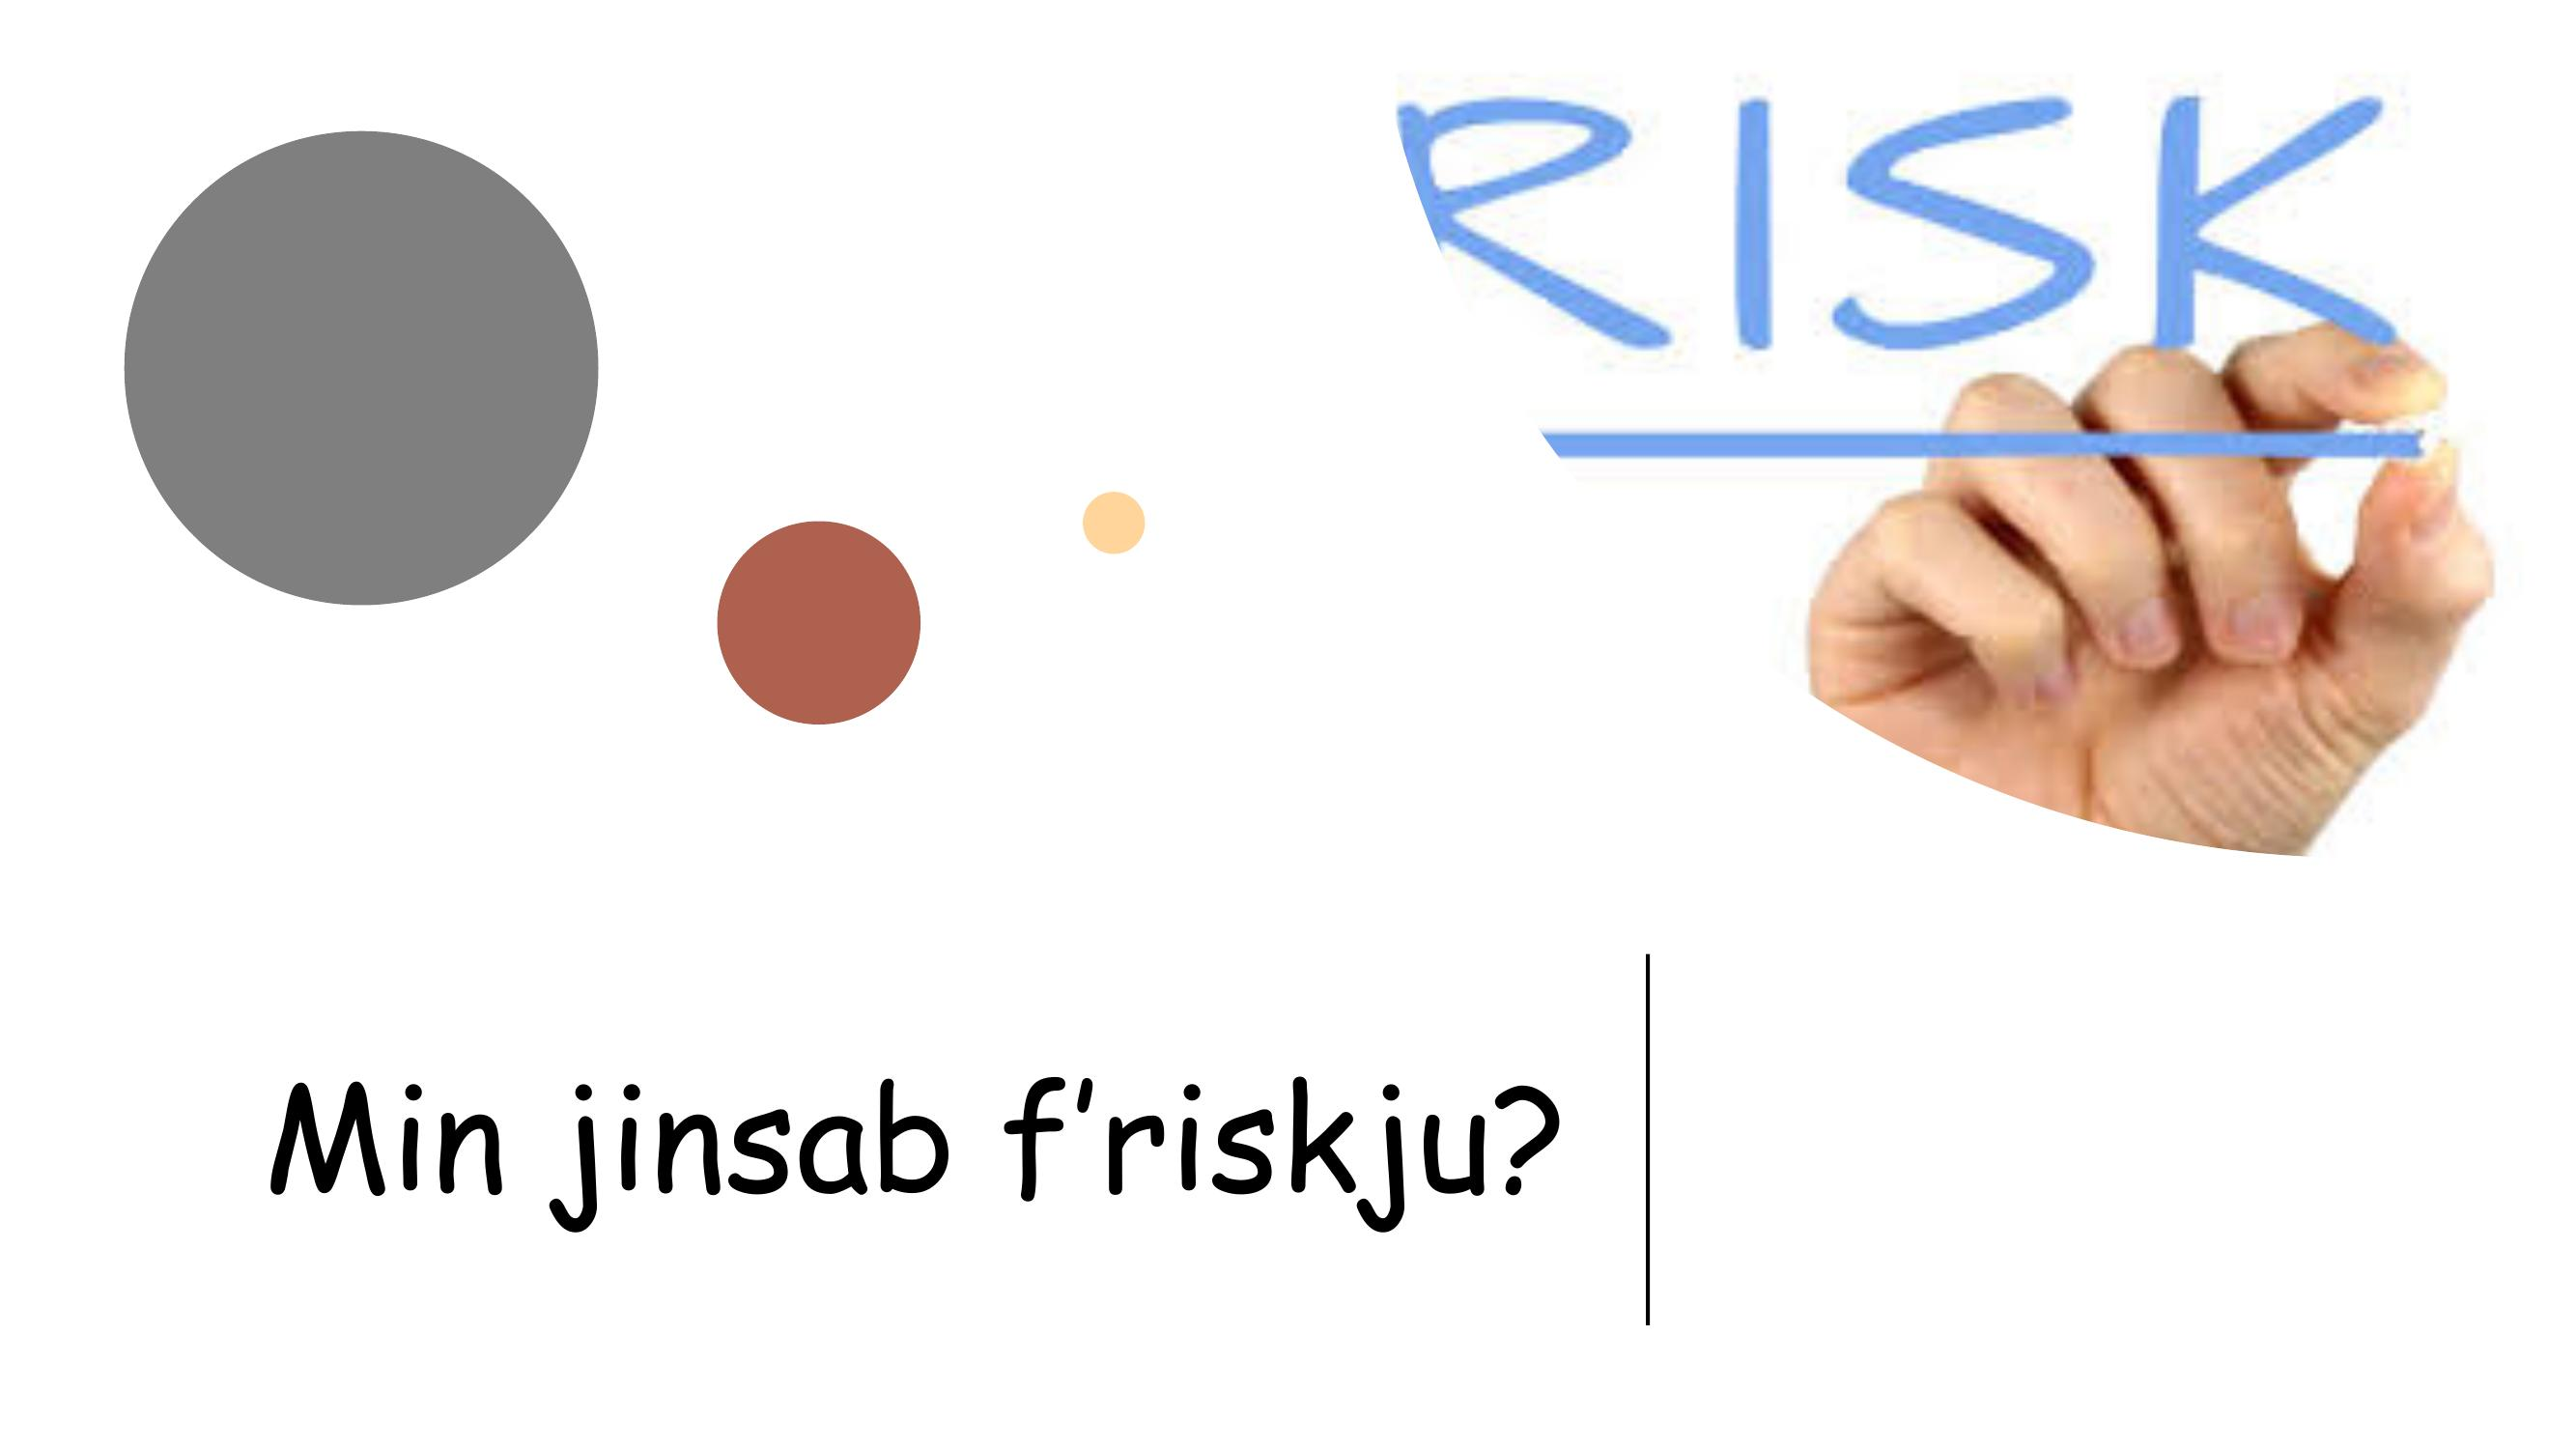text: (225, 1035, 1589, 1254)
